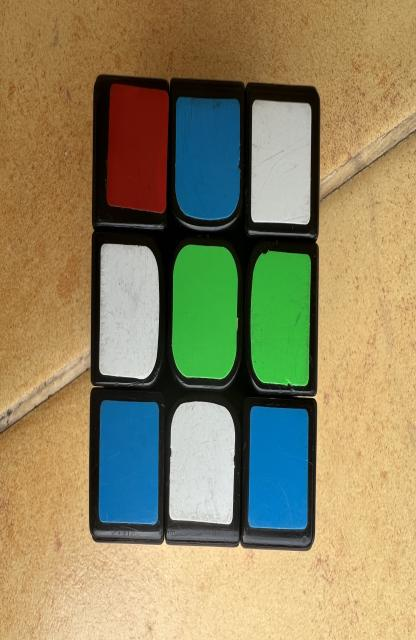Blue: (175, 97, 240, 220), (99, 400, 159, 525), (249, 407, 309, 530)
Green: (172, 245, 238, 380), (250, 250, 311, 387)
Red: (106, 83, 169, 213)
White: (169, 402, 236, 525), (99, 243, 159, 380), (251, 100, 311, 225)
